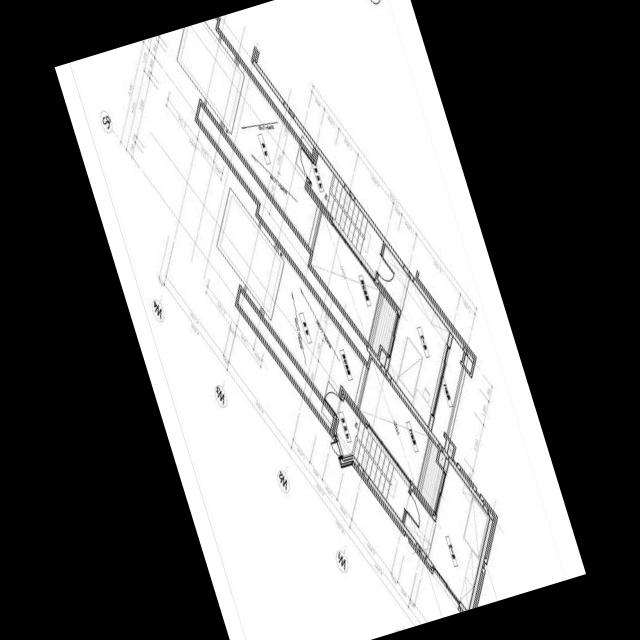background: (54, 0, 586, 640)
space_balconi: (431, 336, 463, 448), (420, 441, 442, 510), (371, 295, 396, 355)
space_bedroom: (377, 243, 449, 426), (403, 461, 489, 610)
space_other: (359, 357, 428, 487), (310, 211, 379, 341), (379, 348, 386, 366), (438, 449, 445, 467)
space_staircase: (336, 397, 409, 521), (310, 152, 383, 274)
